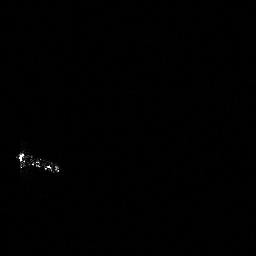ship: (13, 148, 65, 179)
